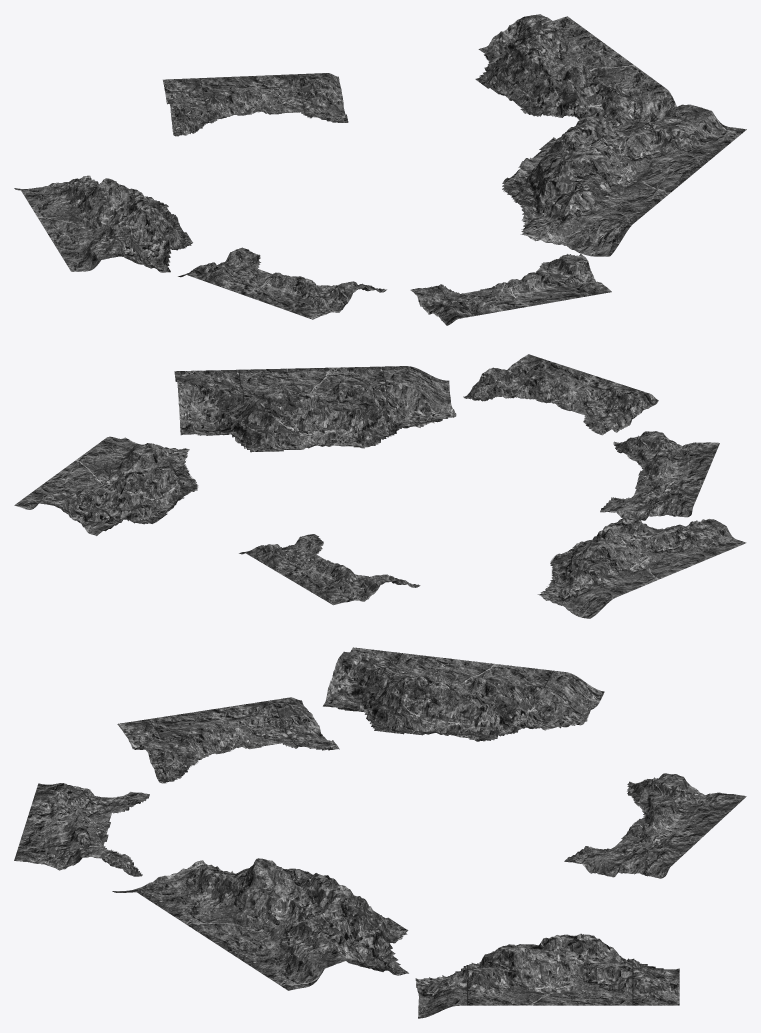
Rendered from montes.fbx.
3 views of the same model, one above another, from view 1: azimuth 30°, elevation 25°; view 2: azimuth 150°, elevation 25°; view 3: azimuth 270°, elevation 25° (orthographic). The views are drawn at different scales.
Visible parts, largest first — view 1: Landscape.005, Landscape.012, Landscape.001, Landscape.002, Landscape.004, Landscape.003; view 2: Landscape.005, Landscape.001, Landscape.012, Landscape.004, Landscape.003, Landscape.002; view 3: Landscape.005, Landscape.001, Landscape.012, Landscape.003, Landscape.002, Landscape.004.
Boxes of the visible parts, x1,y1,x2,y2 form: Landscape.005: (502, 104, 746, 256); Landscape.012: (475, 14, 676, 126); Landscape.001: (14, 175, 192, 272); Landscape.002: (163, 73, 348, 136); Landscape.004: (410, 254, 611, 325); Landscape.003: (178, 247, 386, 319); Landscape.005: (174, 366, 456, 452); Landscape.001: (537, 517, 746, 618); Landscape.012: (14, 436, 198, 535); Landscape.004: (463, 354, 658, 435); Landscape.003: (600, 431, 719, 520); Landscape.002: (239, 534, 420, 605); Landscape.005: (112, 858, 408, 990); Landscape.001: (323, 647, 604, 741); Landscape.012: (415, 933, 679, 1018); Landscape.003: (117, 697, 339, 783); Landscape.002: (564, 773, 746, 878); Landscape.004: (14, 783, 149, 876).
Bounding box in the file's own units: 80357 × 7183 × 71060.
Materials: 2 (2 with a texture image).
